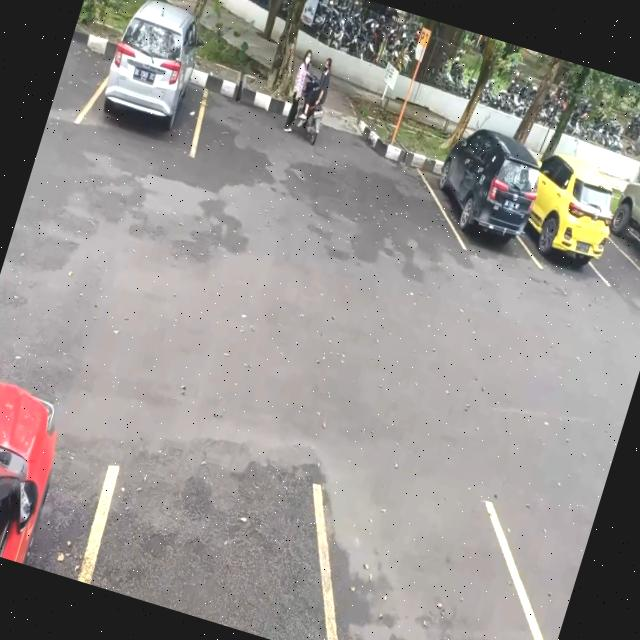empty: (80, 467, 338, 640), (325, 485, 537, 640)
occupied: (82, 12, 224, 158), (420, 134, 548, 262), (518, 160, 624, 285)
